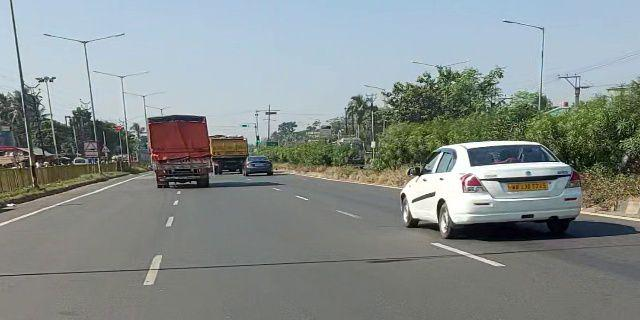Car: (394, 134, 583, 242), (240, 154, 277, 179)
Truck: (142, 112, 215, 189), (209, 131, 249, 177)
